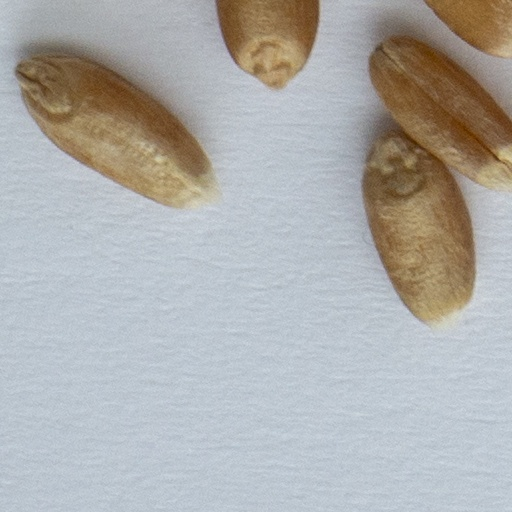Wheat-grain-poly: (15, 55, 219, 207)
